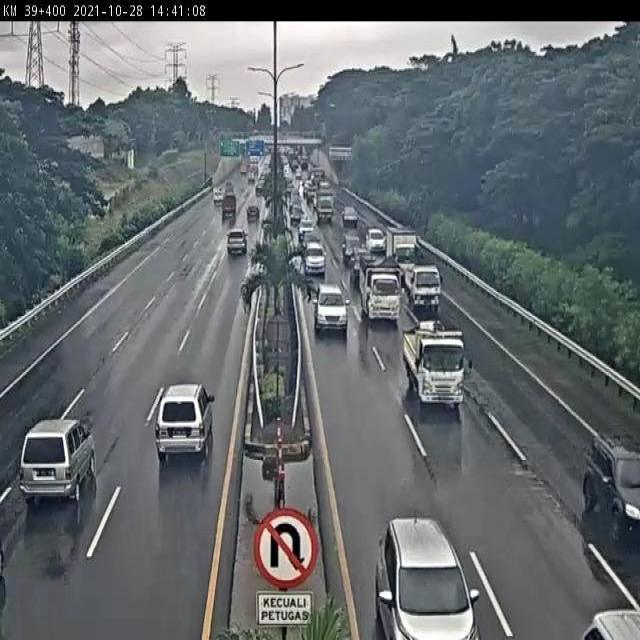car: (313, 281, 349, 332)
mid truck: (18, 419, 97, 501), (154, 384, 214, 460)
truck-m-: (402, 323, 465, 409), (361, 265, 402, 324)
truck-s-: (401, 259, 441, 312)
